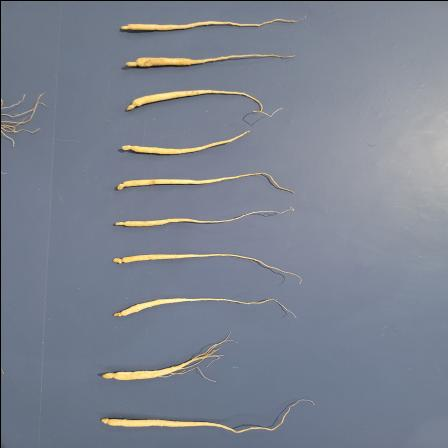Ginseng: (98, 396, 316, 434), (99, 328, 233, 382), (112, 249, 302, 283), (124, 87, 284, 117), (111, 294, 297, 318), (113, 169, 296, 193), (112, 206, 294, 229), (118, 128, 255, 154), (122, 52, 298, 68), (115, 16, 301, 31)
head: (124, 98, 138, 110), (124, 57, 141, 66), (101, 370, 117, 378), (120, 144, 135, 152), (116, 180, 126, 190), (113, 220, 129, 226), (112, 256, 124, 264), (99, 416, 111, 424), (119, 22, 131, 29), (111, 310, 124, 316)
